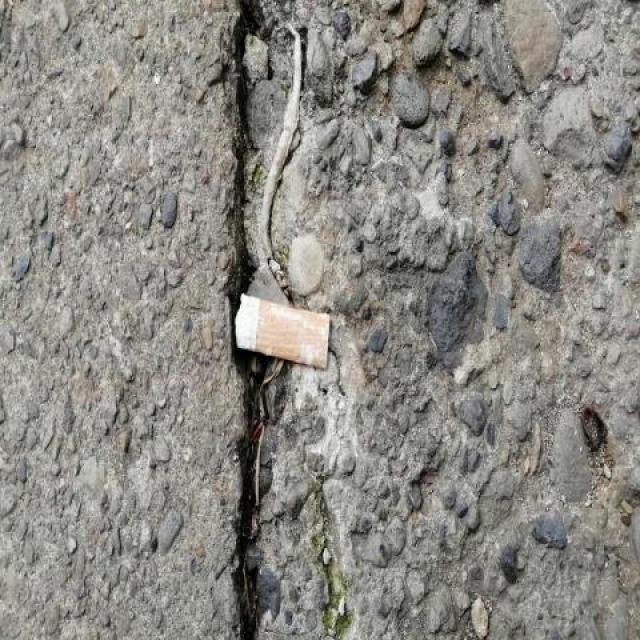non-organic waste: (232, 288, 336, 372)
